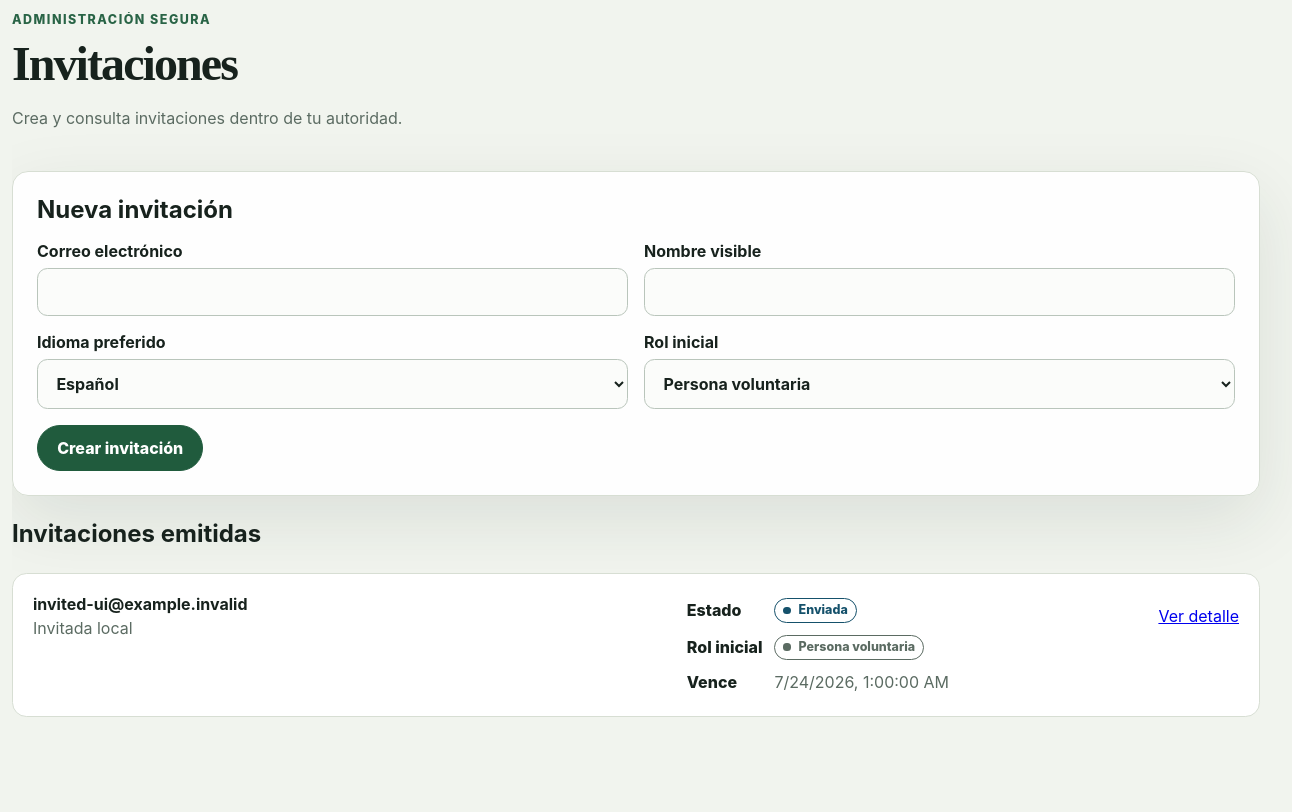
Test: InvitationsPage › keeps the administrator session and panel after origin_denied
The image size is (1292, 812).
Type "origin-denied@example.invalid" into the field labelled "Correo electrónico" at (332,292), box x1=37 y1=268 x2=628 y2=316
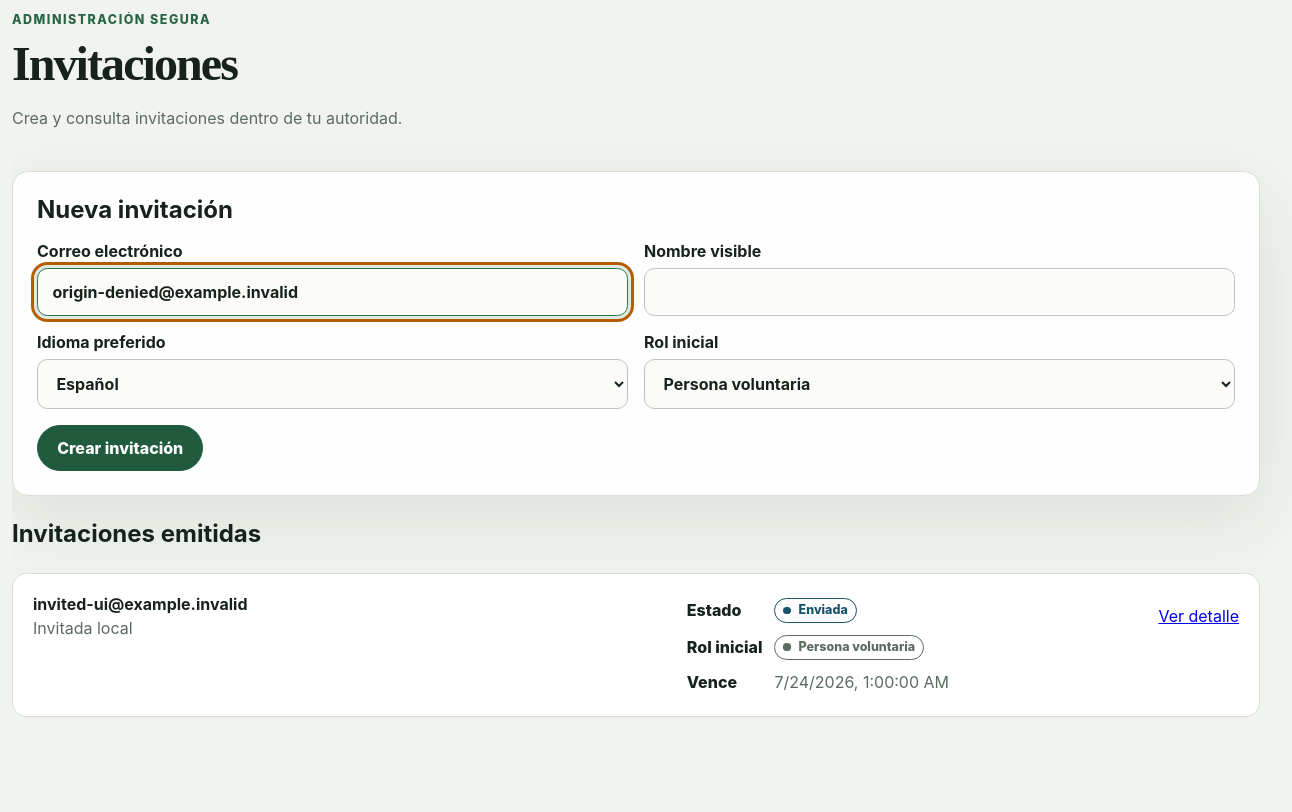
Click the button "Crear invitación" at (120,448), box x1=37 y1=425 x2=204 y2=471
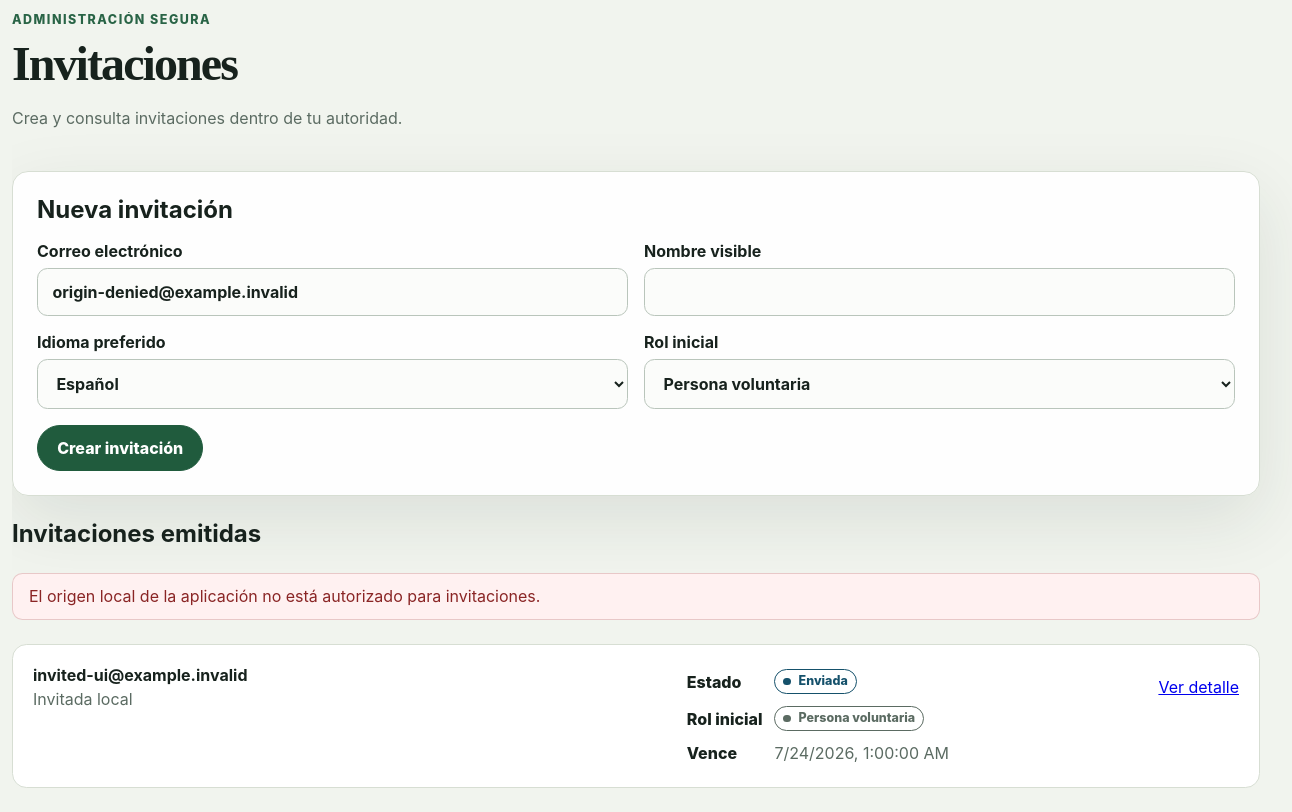
Expected: the heading "Invitaciones" is shown, x1=12 y1=38 x2=237 y2=90
Now the text "El origen local de la aplicación no está autorizado para invitaciones." is shown, box x1=12 y1=573 x2=1260 y2=620
